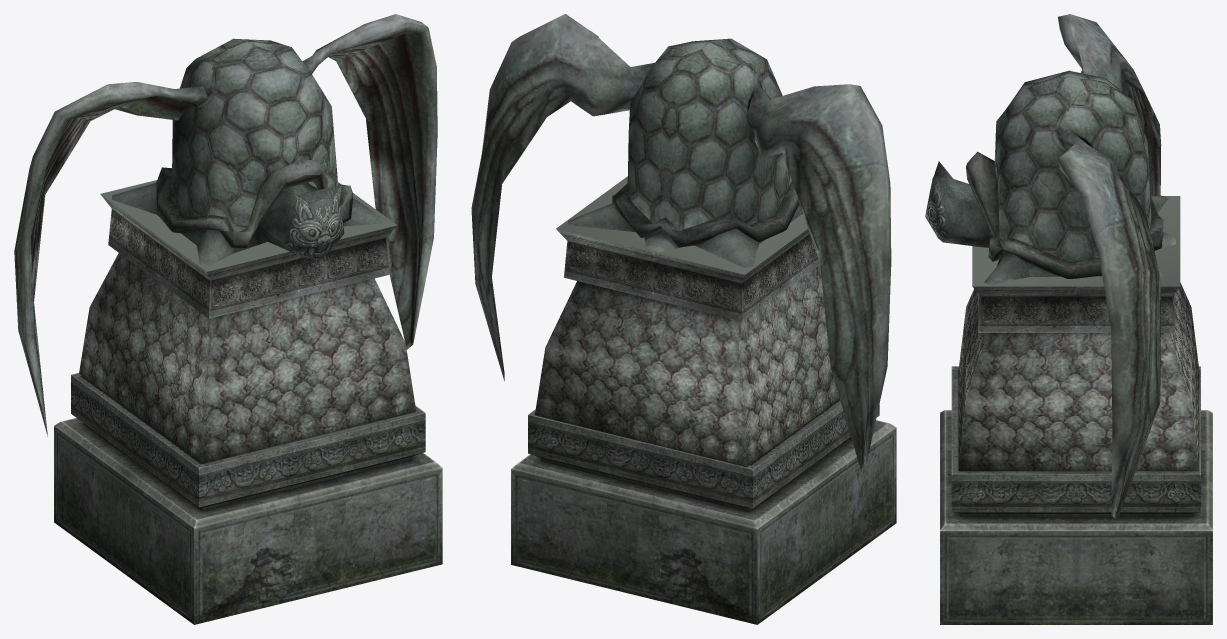
The model's file is turtle_statue_lod_01.glb.
The picture shows the model from 3 angles, left to right: view 1: azimuth 30°, elevation 25°; view 2: azimuth 150°, elevation 25°; view 3: azimuth 270°, elevation 25°; orthographic projection. The views are drawn at different scales.
Visible parts, largest first — view 1: turtle_statue_LOD_01; view 2: turtle_statue_LOD_01; view 3: turtle_statue_LOD_01.
Boxes of the visible parts, bbox=[...] form: turtle_statue_LOD_01: bbox=[14, 14, 442, 624]; turtle_statue_LOD_01: bbox=[471, 14, 896, 624]; turtle_statue_LOD_01: bbox=[925, 14, 1212, 624].
Bounding box in the file's own units: 17.88 × 20.76 × 11.05.
1 material, 1 textured.
